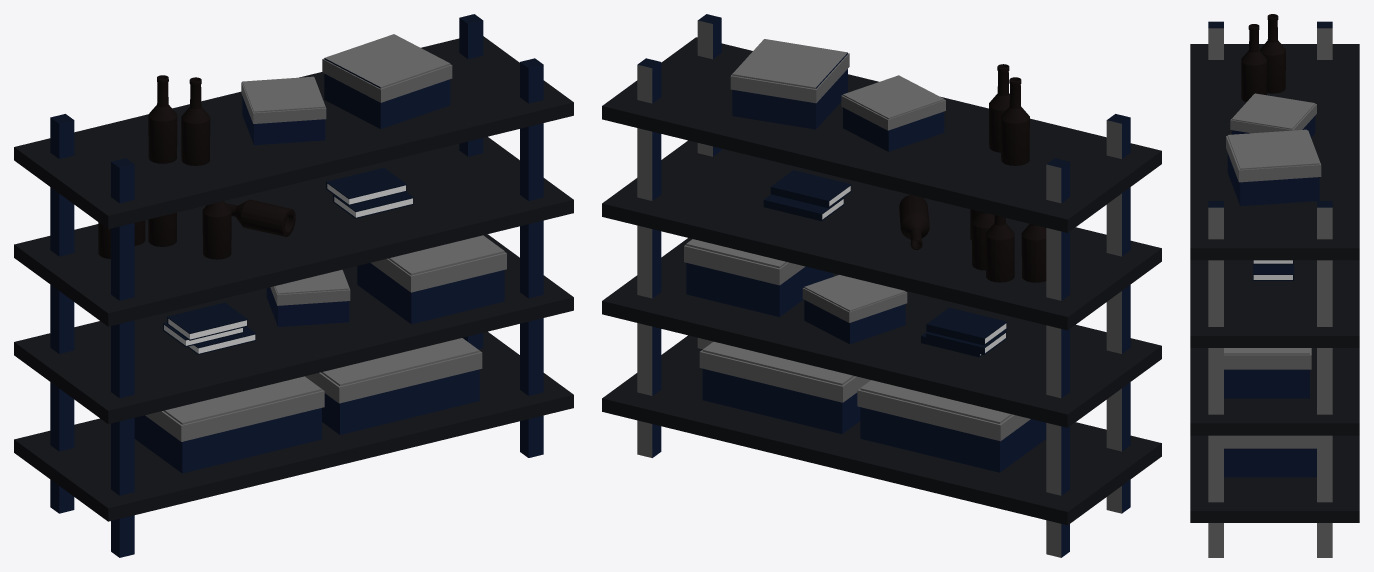
File: Shelf.fbx
3 views of the same model, side by side, from view 1: azimuth 30°, elevation 25°; view 2: azimuth 150°, elevation 25°; view 3: azimuth 270°, elevation 25° (orthographic). The views are drawn at different scales.
Parts seen in each view (by area): view 1: Book018; view 2: Book018; view 3: Book018.
Boxes of the visible parts, x1,y1,x2,y2 form: Book018: (14, 14, 573, 557); Book018: (602, 14, 1161, 557); Book018: (1190, 14, 1359, 557).
Bounding box in the file's own units: 200 × 70 × 178.
